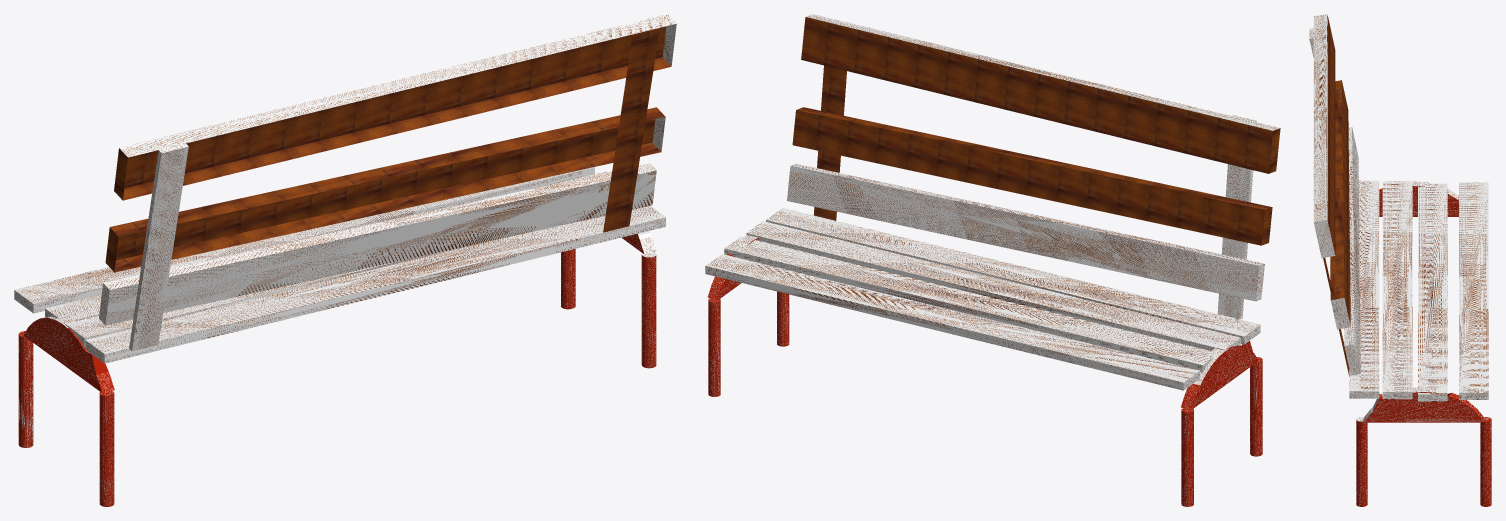
The picture shows the model from 3 angles, left to right: view 1: azimuth 30°, elevation 25°; view 2: azimuth 150°, elevation 25°; view 3: azimuth 270°, elevation 25°; orthographic projection. The views are drawn at different scales.
Visible parts, largest first — view 1: mesh3_mesh3-geometry, mesh9_mesh9-geometry, mesh10_mesh10-geometry, mesh5_mesh5-geometry, mesh8_mesh8-geometry, mesh4_mesh4-geometry, mesh2_mesh2-geometry, mesh6_mesh6-geometry, mesh7_mesh7-geometry, mesh1_mesh1-geometry; view 2: mesh3_mesh3-geometry, mesh9_mesh9-geometry, mesh10_mesh10-geometry, mesh7_mesh7-geometry, mesh8_mesh8-geometry, mesh5_mesh5-geometry, mesh1_mesh1-geometry, mesh6_mesh6-geometry, mesh4_mesh4-geometry, mesh2_mesh2-geometry; view 3: mesh3_mesh3-geometry, mesh8_mesh8-geometry, mesh7_mesh7-geometry, mesh9_mesh9-geometry, mesh10_mesh10-geometry, mesh1_mesh1-geometry, mesh2_mesh2-geometry, mesh5_mesh5-geometry.
Part boxes in pixels (box(x1,y1,x2,y2)): mesh3_mesh3-geometry: box(14, 14, 676, 363); mesh9_mesh9-geometry: box(105, 107, 665, 272); mesh10_mesh10-geometry: box(99, 163, 656, 325); mesh5_mesh5-geometry: box(23, 316, 114, 393); mesh8_mesh8-geometry: box(65, 241, 487, 347); mesh4_mesh4-geometry: box(99, 391, 114, 506); mesh2_mesh2-geometry: box(641, 252, 656, 368); mesh6_mesh6-geometry: box(18, 331, 33, 447); mesh7_mesh7-geometry: box(45, 171, 607, 321); mesh1_mesh1-geometry: box(561, 249, 575, 309); mesh3_mesh3-geometry: box(705, 14, 1280, 390); mesh9_mesh9-geometry: box(792, 107, 1272, 245); mesh10_mesh10-geometry: box(787, 163, 1264, 301); mesh7_mesh7-geometry: box(724, 236, 1214, 372); mesh8_mesh8-geometry: box(746, 221, 1240, 351); mesh5_mesh5-geometry: box(1181, 341, 1258, 409); mesh1_mesh1-geometry: box(708, 298, 720, 396); mesh6_mesh6-geometry: box(1181, 408, 1193, 506); mesh4_mesh4-geometry: box(1250, 357, 1262, 456); mesh2_mesh2-geometry: box(777, 291, 789, 346); mesh3_mesh3-geometry: box(1309, 14, 1488, 422); mesh8_mesh8-geometry: box(1382, 181, 1412, 399); mesh7_mesh7-geometry: box(1418, 183, 1447, 401); mesh9_mesh9-geometry: box(1330, 80, 1350, 329); mesh10_mesh10-geometry: box(1344, 127, 1360, 375); mesh1_mesh1-geometry: box(1480, 417, 1491, 506); mesh2_mesh2-geometry: box(1356, 417, 1367, 506); mesh5_mesh5-geometry: box(1379, 181, 1458, 216).
Bounding box in the file's own units: 0.8126 × 0.5034 × 0.2936.
